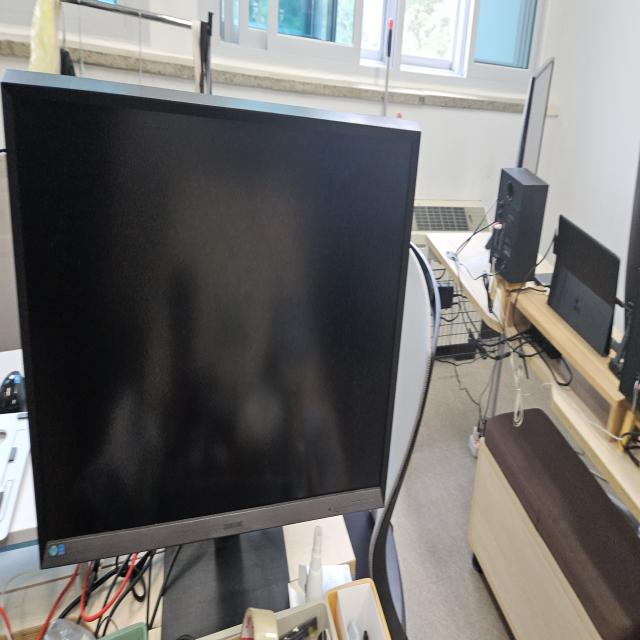Monitor: (2, 64, 422, 571)
